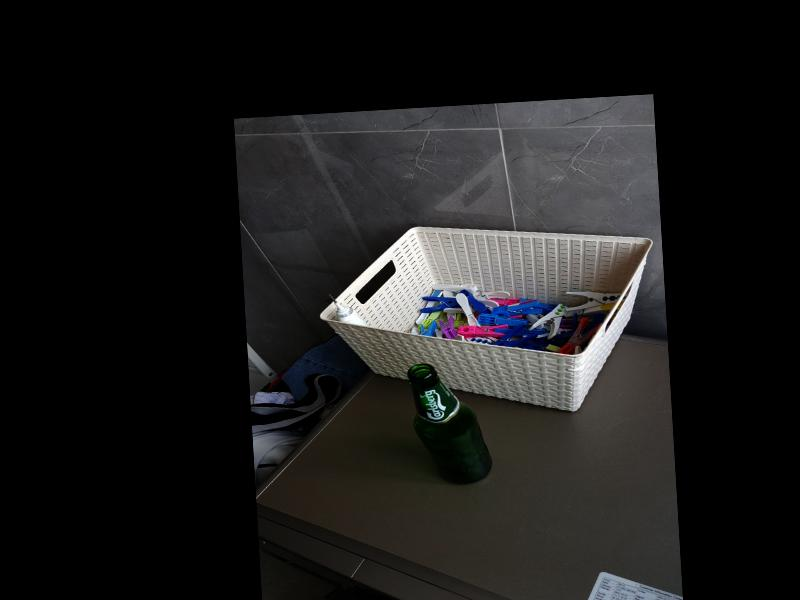Beer: (407, 359, 493, 486)
